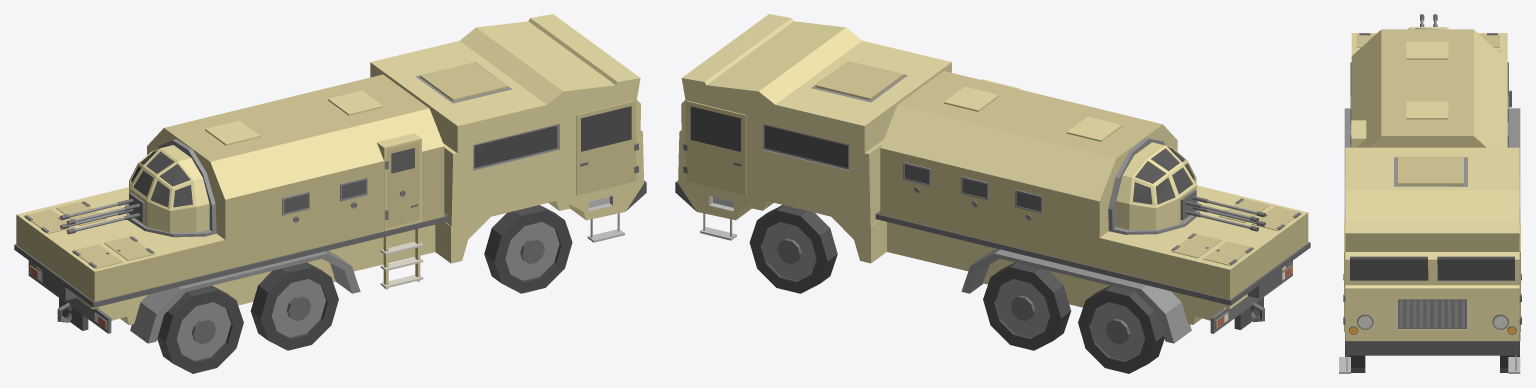
The model's file is kar19.fbx.
3 renders of one model, left to right at view 1: azimuth 30°, elevation 25°; view 2: azimuth 150°, elevation 25°; view 3: azimuth 270°, elevation 25°, orthographic.
Parts seen in each view (by area): view 1: Boole_4, Sphere_1, Cylinder_4, Cylinder_5, Cylinder_6; view 2: Boole_4, Sphere_1, Cylinder_1, Cylinder_2, Cylinder_3; view 3: Boole_4, Cylinder_4, Cylinder_1, Sphere_1.
Boxes of the visible parts, bbox=[...] form: Boole_4: bbox=[14, 14, 646, 343]; Sphere_1: bbox=[60, 145, 209, 234]; Cylinder_4: bbox=[484, 205, 572, 293]; Cylinder_5: bbox=[250, 262, 338, 350]; Cylinder_6: bbox=[157, 285, 243, 373]; Boole_4: bbox=[675, 14, 1310, 343]; Sphere_1: bbox=[1116, 142, 1265, 231]; Cylinder_1: bbox=[749, 205, 837, 293]; Cylinder_2: bbox=[983, 262, 1071, 350]; Cylinder_3: bbox=[1078, 285, 1164, 373]; Boole_4: bbox=[1339, 28, 1521, 373]; Cylinder_4: bbox=[1345, 332, 1365, 372]; Cylinder_1: bbox=[1500, 332, 1520, 372]; Sphere_1: bbox=[1407, 14, 1449, 29].
Size of the model in its own units: 799 by 266 by 231.
